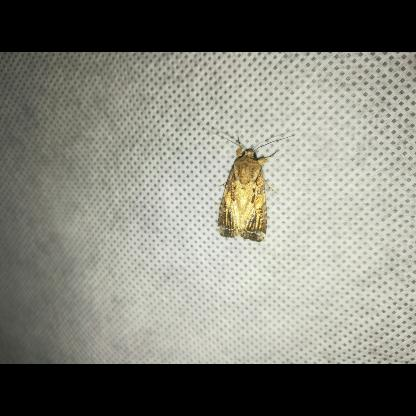Fall Armyworm Moth: (203, 128, 297, 244)
